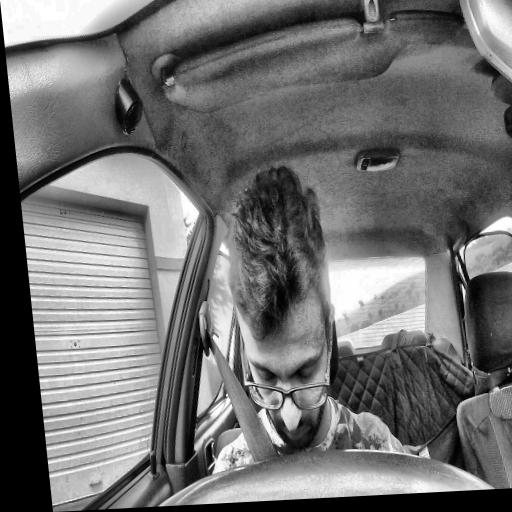drowsy: (215, 165, 349, 457)
